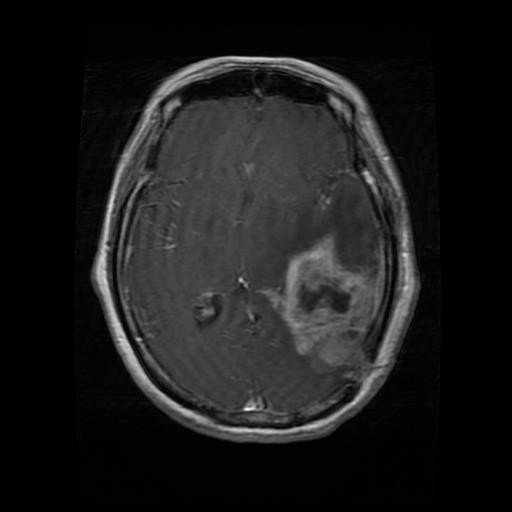Gliomia_tumour: (260, 228, 386, 382)
